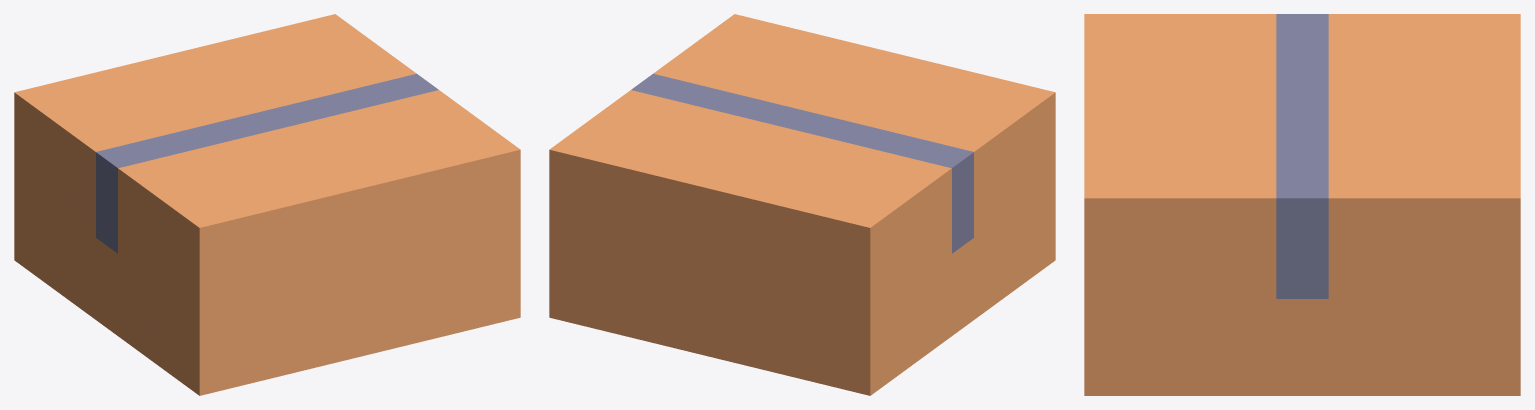
3 views of the same model, side by side, from view 1: azimuth 30°, elevation 25°; view 2: azimuth 150°, elevation 25°; view 3: azimuth 270°, elevation 25° (orthographic). The views are drawn at different scales.
Parts seen in each view (by area): view 1: Box2x2, Box2x2.002, Box2x2.001; view 2: Box2x2, Box2x2.001, Box2x2.002; view 3: Box2x2, Box2x2.001, Box2x2.002.
Boxes of the visible parts, x1,y1,x2,y2 form: Box2x2: [14, 96, 520, 395]; Box2x2.002: [107, 82, 520, 231]; Box2x2.001: [14, 14, 427, 163]; Box2x2: [549, 96, 1055, 395]; Box2x2.001: [549, 82, 962, 231]; Box2x2.002: [642, 14, 1055, 163]; Box2x2: [1084, 202, 1520, 395]; Box2x2.001: [1302, 14, 1520, 202]; Box2x2.002: [1084, 14, 1302, 202].
Size of the model in its own units: 200 by 100 by 200.
